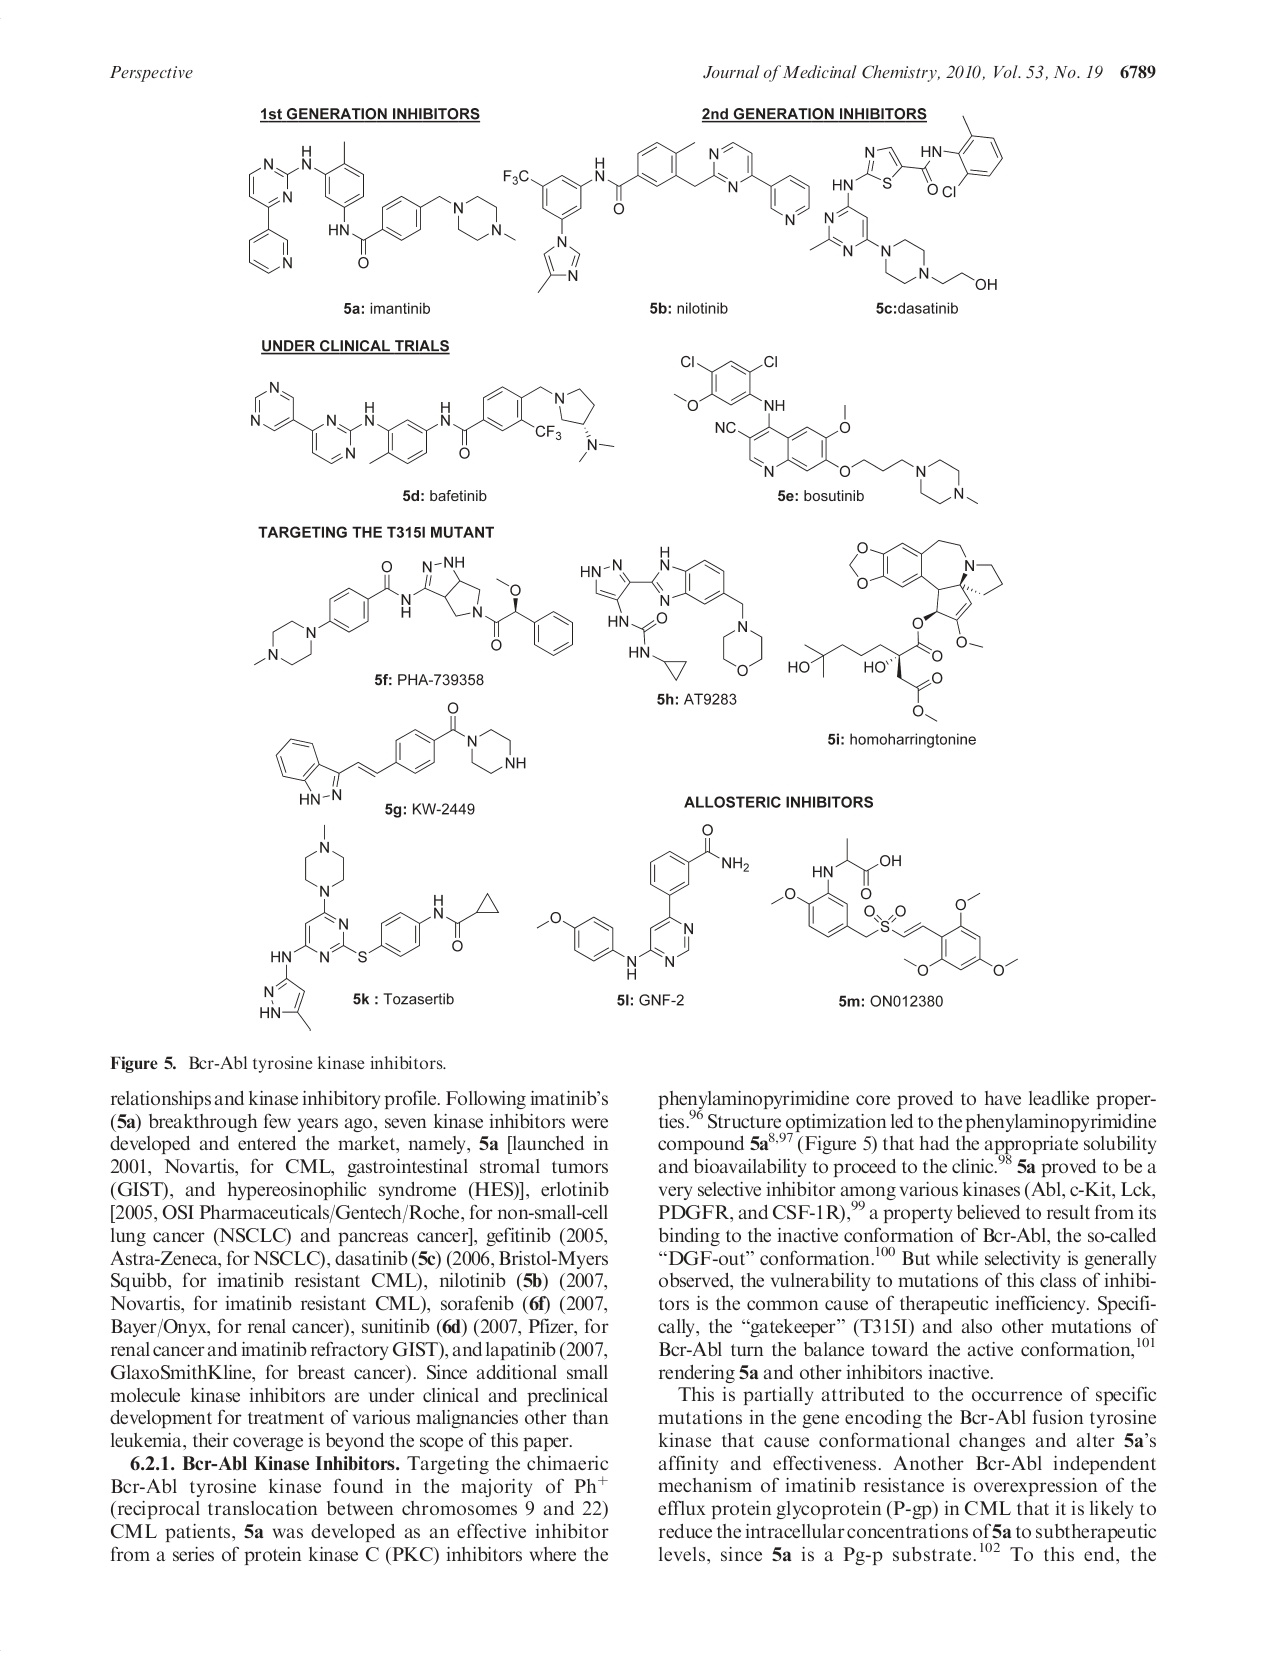exist_molecular: (255, 826, 508, 1031), (674, 348, 987, 512), (501, 132, 813, 295), (781, 539, 1009, 723), (231, 133, 520, 275), (771, 830, 1029, 981), (246, 551, 578, 666), (241, 376, 622, 473), (802, 122, 1004, 305), (532, 819, 751, 984), (273, 702, 531, 803), (578, 544, 769, 680)
